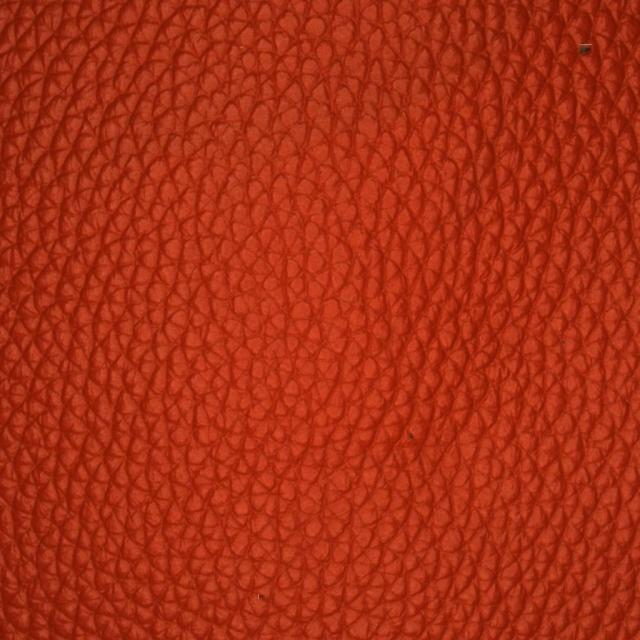pinhole: (538, 11, 629, 162)
